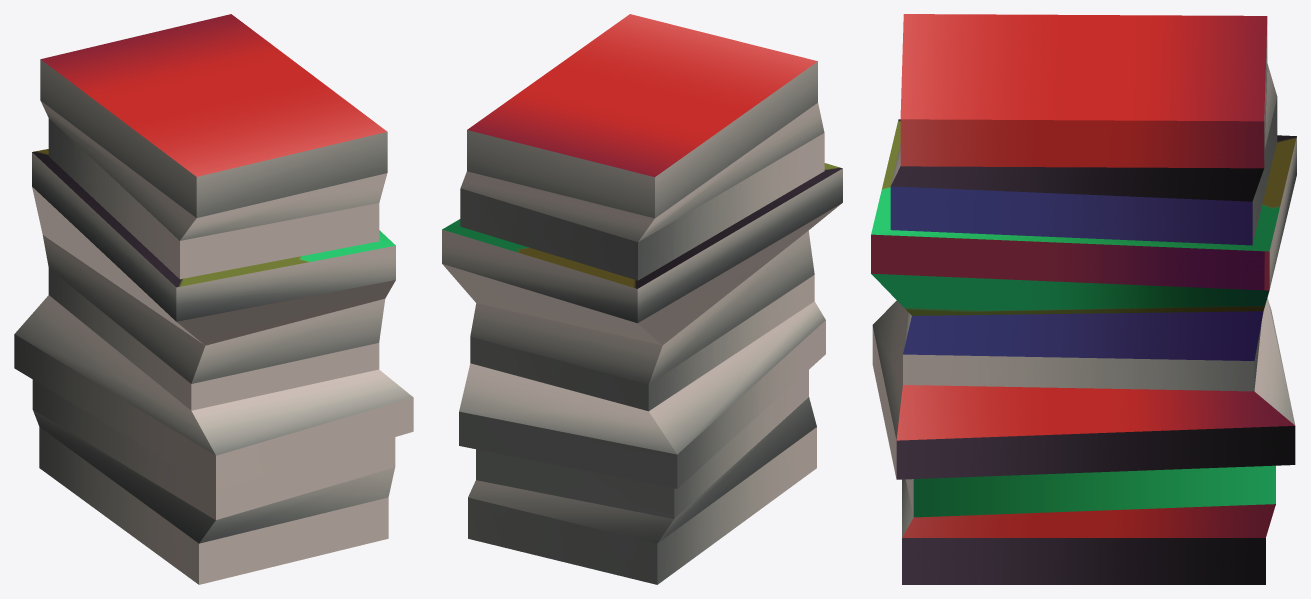
The model's file is propStackedBooks_mesh.fbx.
3 views of the same model, side by side, from view 1: azimuth 30°, elevation 25°; view 2: azimuth 150°, elevation 25°; view 3: azimuth 270°, elevation 25° (orthographic). The views are drawn at different scales.
Visible parts, largest first — view 1: stacked_books; view 2: stacked_books; view 3: stacked_books.
Part boxes in pixels (x1,y1,x2,y2): stacked_books: (14,14,413,584); stacked_books: (442,14,842,584); stacked_books: (871,14,1296,584).
Size of the model in its own units: 0.4401 by 0.7207 by 0.5986.
